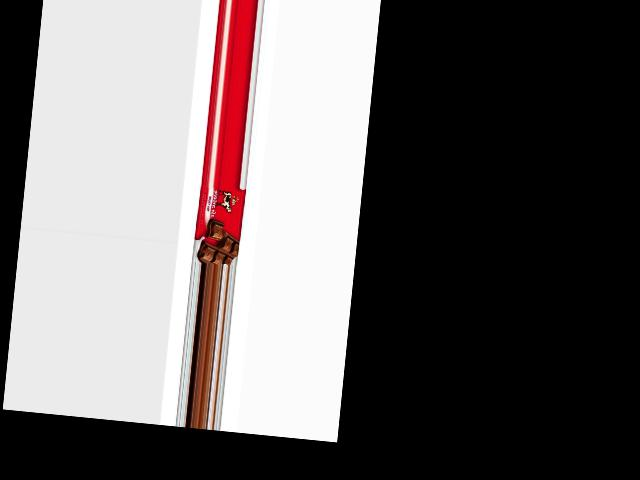chocolate: (191, 183, 244, 266)
